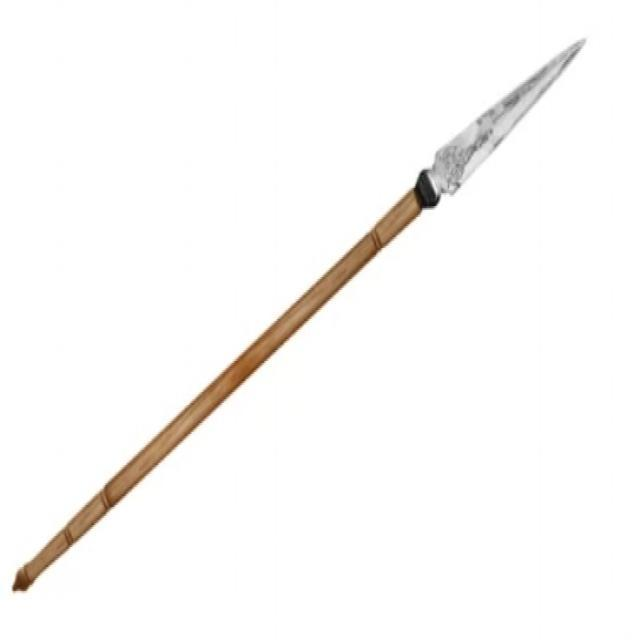spear: (9, 33, 602, 613)
